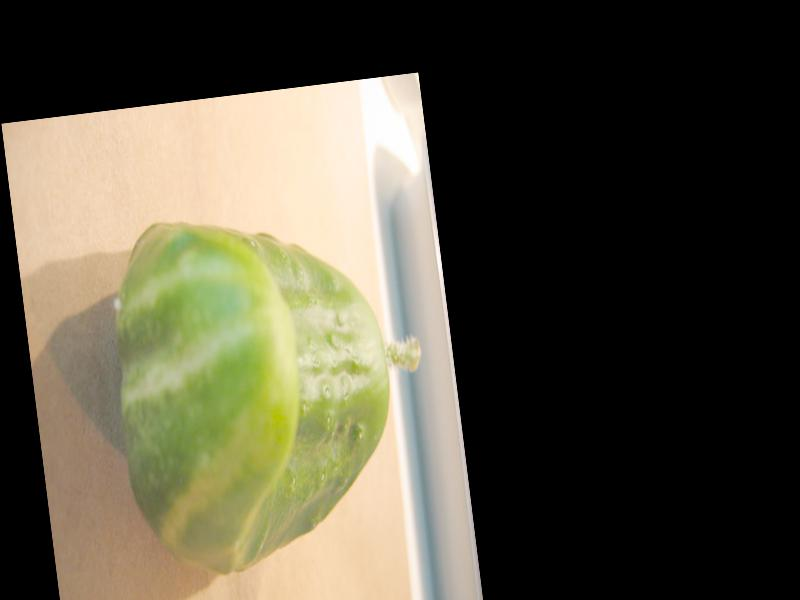Cucumber: (96, 189, 445, 581)
